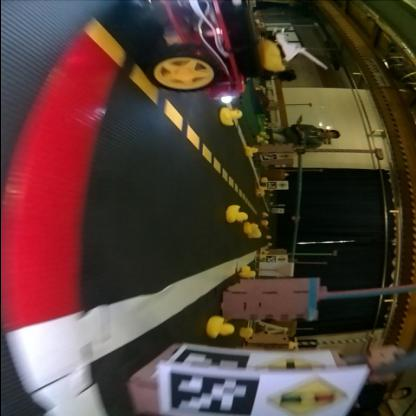Duckie: (207, 317, 233, 338), (221, 108, 241, 126), (227, 208, 248, 223), (240, 269, 256, 278), (245, 148, 258, 158), (240, 328, 251, 338), (249, 232, 262, 240), (247, 224, 257, 234), (262, 212, 268, 218), (261, 178, 269, 182)
Duckiebot: (146, 2, 298, 100)
QR code: (166, 372, 252, 416), (174, 348, 249, 372)
